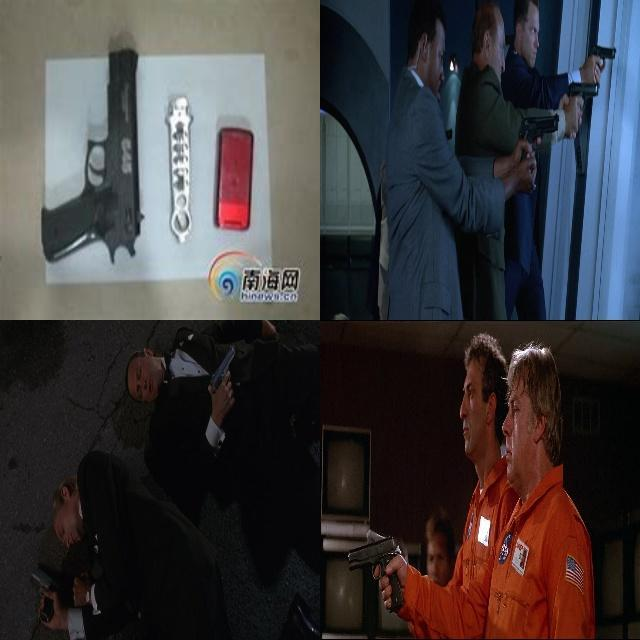gun-knife-thesis - v11 Yolov5 augmented: (37, 47, 148, 271), (343, 533, 405, 613), (516, 107, 559, 191), (564, 77, 599, 139), (208, 342, 235, 416), (27, 561, 56, 622), (587, 40, 616, 81)
